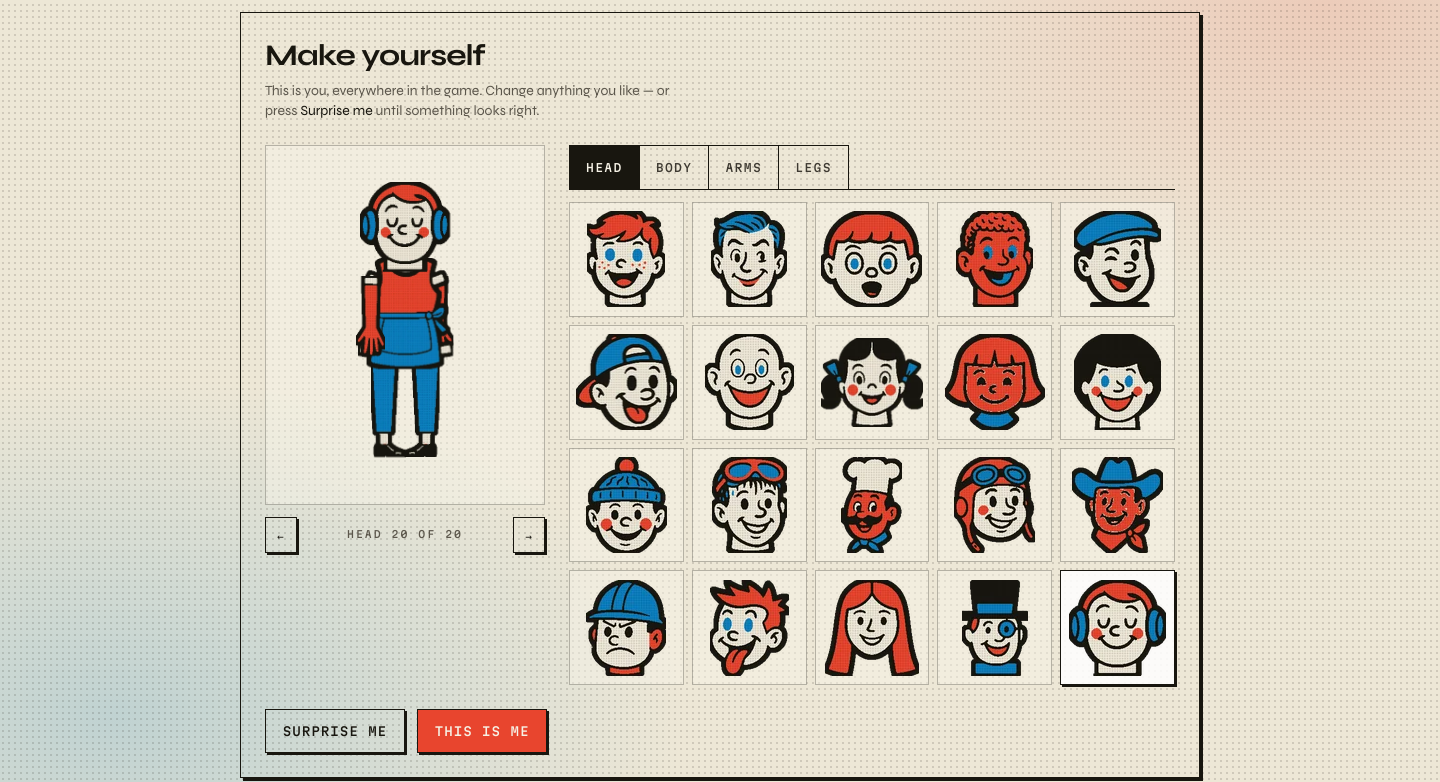
Test case: App › signed in without a character › says so when the character cannot be saved, instead of hanging
Expected: the heading "Make yourself" is shown, [265,37,485,73]
What coordinates should you click on to do the following:
click the button "This is me"
I would click on:
 (482, 731)
Its box is [417,709,547,753].
(page scrolled)
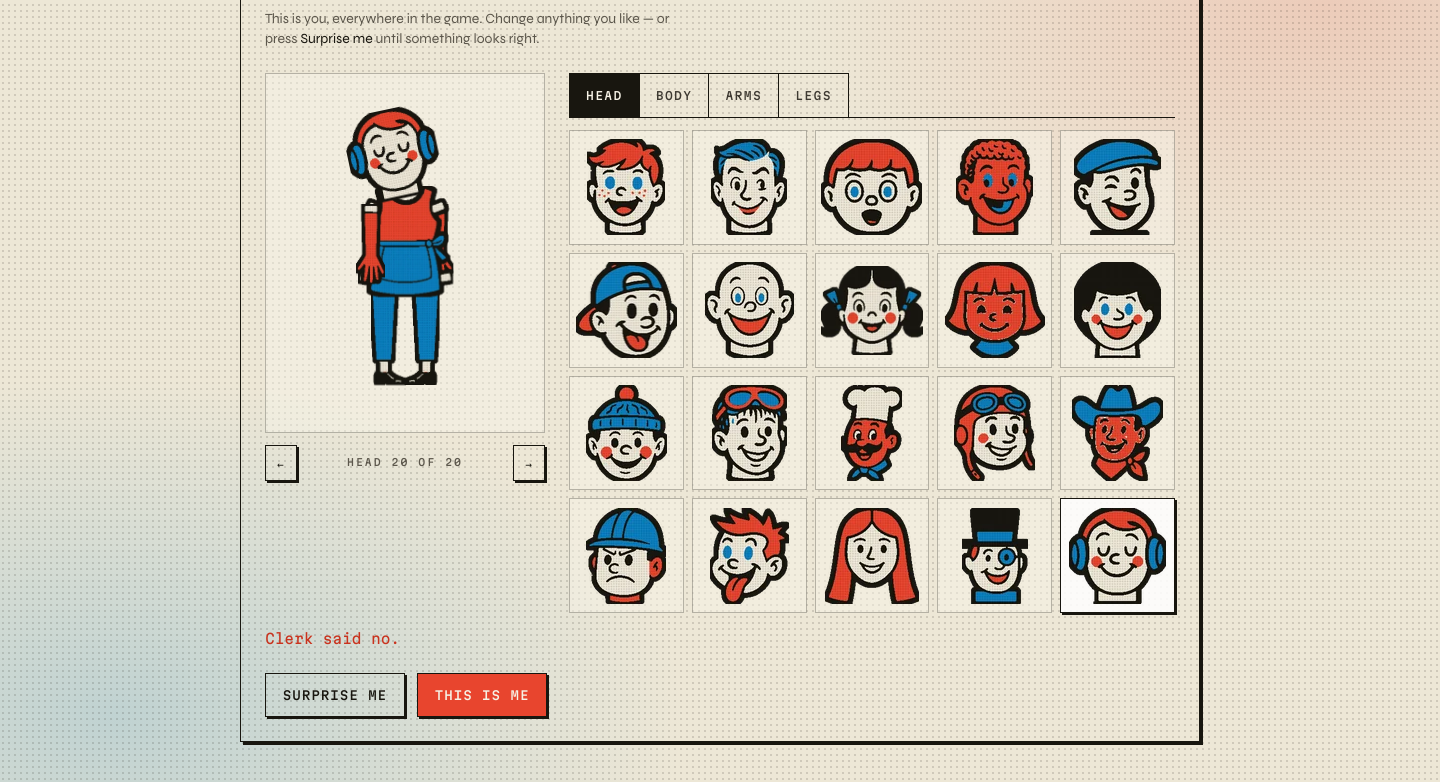
Expected: the button "This is me" is enabled, [417,673,547,717]
Expected: the message shows "Clerk said no", [265,630,400,647]
